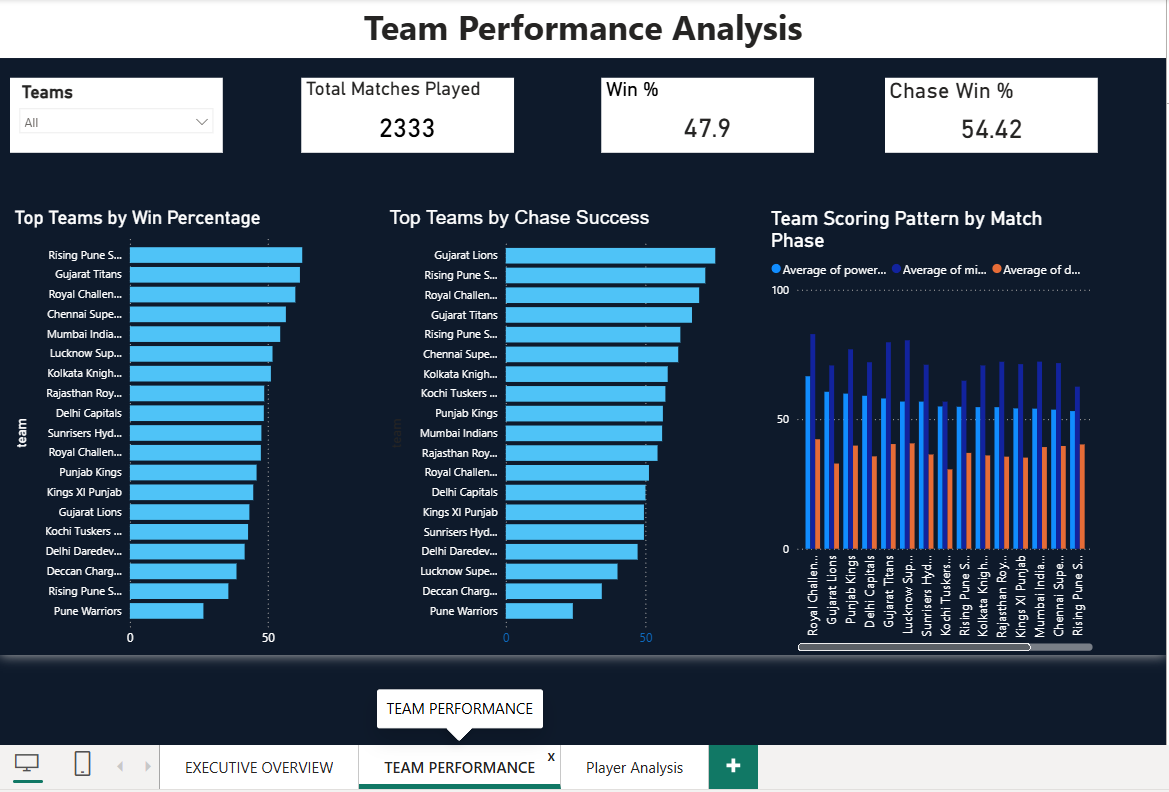

This screenshot's page, from the dashboard's own definition file:
{"tool":"powerbi","page":{"name":"TEAM PERFORMANCE","canvas":[1280,720],"ordinal":1},"visuals":[{"type":"textbox","box":[0,0,1280.3,64.5],"z":0},{"type":"slicer","fields":{"Values":["fact_team_performance_by_phase.team"]},"box":[11,86.4,233.3,82.3],"z":1000},{"type":"card","title":"Total Matches Played","fields":{"Values":["Sum(fact_team_performance_by_phase.matches_played)"]},"box":[330.7,86.4,233.3,82.3],"z":2000},{"type":"card","title":"Win %","fields":{"Values":["Avg(fact_team_performance_by_phase.win_pct)"]},"box":[660,86.4,233.3,82.3],"z":3000},{"type":"card","title":"Chase Win %","fields":{"Values":["Avg(fact_team_performance_by_phase.chase_win_pct)"]},"box":[971.5,86.4,233.3,82.3],"z":4000},{"type":"clusteredBarChart","title":"Top Teams by Win Percentage","fields":{"Category":["fact_team_performance_by_phase.team"],"Y":["Avg(fact_team_performance_by_phase.win_pct)"]},"box":[11,227.4,387,492.6],"z":5000},{"type":"clusteredBarChart","title":"Top Teams by Chase Success","fields":{"Category":["fact_team_performance_by_phase.team"],"Y":["Avg(fact_team_performance_by_phase.chase_win_pct)"]},"box":[422.6,227.4,391.1,492.6],"z":6000},{"type":"clusteredColumnChart","title":"Team Scoring Pattern by Match Phase","fields":{"Category":["fact_team_performance_by_phase.team"],"Y":["Avg(fact_team_performance_by_phase.powerplay_avg_runs)","Avg(fact_team_performance_by_phase.middle_avg_runs)","Avg(fact_team_performance_by_phase.death_avg_runs)"]},"box":[841.2,227.8,363.6,492.6],"z":7000}]}

Visuals, with their boxes on the page's 1280x720 design canvas (x1, y1, x2, y2). These are canvas units, not pixel positions in the 1169x792 screenshot, which may show the page scaled, cropped or inside an application window:
textbox: {"x1": 0, "y1": 0, "x2": 1280, "y2": 64}
slicer - fact_team_performance_by_phase.team: {"x1": 11, "y1": 86, "x2": 244, "y2": 169}
"Total Matches Played" card: {"x1": 331, "y1": 86, "x2": 564, "y2": 169}
"Win %" card: {"x1": 660, "y1": 86, "x2": 893, "y2": 169}
"Chase Win %" card: {"x1": 972, "y1": 86, "x2": 1205, "y2": 169}
"Top Teams by Win Percentage" clusteredBarChart: {"x1": 11, "y1": 227, "x2": 398, "y2": 720}
"Top Teams by Chase Success" clusteredBarChart: {"x1": 423, "y1": 227, "x2": 814, "y2": 720}
"Team Scoring Pattern by Match Phase" clusteredColumnChart: {"x1": 841, "y1": 228, "x2": 1205, "y2": 720}
